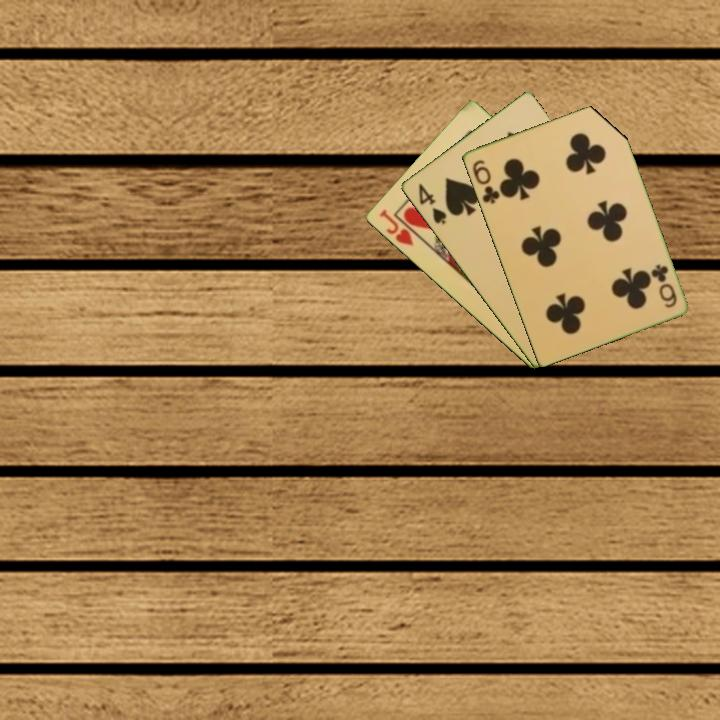4s: (414, 180, 449, 227)
6c: (468, 156, 502, 207), (647, 260, 679, 311)
Jh: (375, 206, 416, 249)
